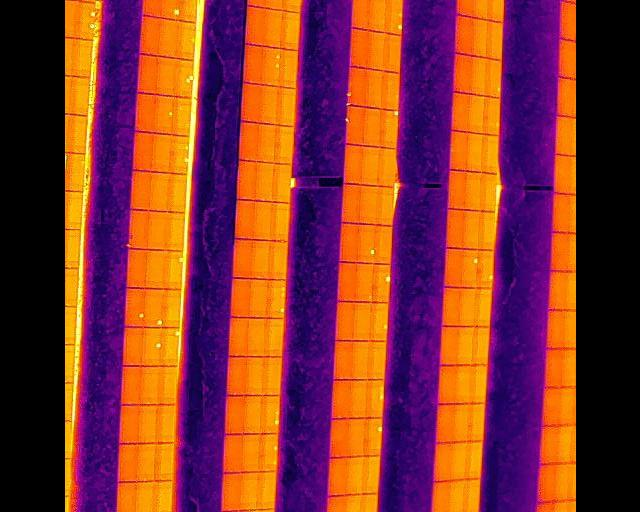Cell: (124, 288, 145, 327), (372, 263, 391, 302), (345, 106, 363, 145), (357, 224, 375, 263), (379, 110, 397, 149), (143, 328, 161, 367), (370, 303, 388, 341), (145, 289, 162, 328), (155, 95, 172, 134), (161, 327, 178, 366), (484, 59, 500, 98), (461, 250, 477, 288), (165, 251, 181, 289), (366, 418, 382, 455), (484, 97, 499, 136), (477, 250, 492, 288), (162, 0, 180, 21)
Cell-Multi: (74, 2, 94, 39), (169, 135, 187, 174), (260, 395, 278, 434), (261, 47, 279, 86), (347, 68, 365, 106), (267, 280, 285, 318), (259, 433, 276, 471), (385, 0, 403, 35), (366, 380, 382, 419), (175, 60, 191, 98)
No-Anomaly: (231, 239, 252, 279), (129, 171, 150, 210), (127, 209, 147, 249), (135, 93, 155, 133), (549, 271, 569, 310), (550, 233, 570, 272), (123, 327, 143, 366), (223, 395, 243, 434), (234, 200, 254, 239), (334, 302, 354, 341), (348, 28, 367, 69), (116, 444, 136, 482), (145, 250, 165, 288), (147, 211, 166, 251), (225, 357, 245, 395), (230, 279, 250, 317), (240, 83, 259, 123), (341, 184, 360, 223), (122, 366, 141, 405), (137, 404, 156, 443), (228, 317, 247, 356), (236, 161, 255, 200), (244, 7, 263, 46), (264, 318, 283, 357), (333, 341, 352, 380), (133, 133, 153, 170), (242, 47, 262, 84), (558, 77, 576, 118), (442, 249, 461, 287), (544, 349, 563, 387), (127, 250, 146, 288), (140, 367, 159, 405), (158, 20, 177, 58), (68, 77, 87, 115), (71, 40, 90, 78), (238, 123, 257, 161), (256, 471, 275, 509), (361, 146, 379, 186), (558, 40, 576, 80), (454, 13, 471, 55), (139, 56, 158, 93), (65, 153, 84, 190), (65, 116, 84, 153), (156, 404, 174, 443), (339, 262, 357, 301), (340, 223, 358, 262), (343, 145, 361, 184), (344, 456, 362, 495), (359, 185, 377, 224), (362, 107, 380, 146), (367, 341, 385, 380), (375, 187, 393, 226), (438, 326, 456, 365), (440, 287, 458, 326), (446, 171, 464, 210), (453, 55, 471, 94), (538, 464, 556, 503), (540, 425, 558, 464), (119, 404, 137, 443), (141, 17, 159, 56), (150, 172, 168, 211), (238, 471, 256, 510), (280, 11, 298, 50), (330, 418, 348, 457), (484, 21, 501, 62), (554, 154, 571, 195), (555, 116, 572, 157), (157, 56, 174, 97), (349, 418, 367, 456), (364, 70, 382, 108), (367, 32, 385, 70), (374, 226, 392, 264), (437, 365, 455, 403), (548, 311, 566, 349), (137, 444, 155, 482), (151, 134, 169, 172), (168, 174, 186, 212), (223, 434, 241, 472), (241, 434, 259, 472), (243, 396, 261, 434), (257, 124, 275, 162), (274, 126, 292, 164), (331, 381, 349, 419), (254, 200, 271, 240), (270, 240, 287, 280), (327, 456, 344, 496), (155, 444, 173, 481), (350, 379, 367, 418), (362, 455, 379, 494), (445, 210, 462, 249), (458, 287, 475, 326), (542, 386, 559, 425), (552, 194, 569, 233), (558, 425, 575, 464), (246, 357, 263, 396), (247, 318, 264, 357), (249, 279, 266, 318), (255, 162, 272, 201), (263, 357, 280, 396), (263, 8, 280, 47), (276, 87, 293, 126), (465, 440, 482, 478), (556, 463, 573, 501), (159, 366, 176, 404), (163, 289, 180, 327), (166, 212, 183, 250), (221, 473, 238, 511), (259, 86, 276, 124), (271, 203, 288, 241), (279, 49, 296, 87), (561, 0, 576, 43), (462, 210, 478, 250), (464, 171, 480, 211), (470, 18, 486, 58), (172, 96, 188, 136), (382, 72, 399, 109), (64, 192, 81, 229), (378, 148, 394, 187), (434, 442, 450, 481), (437, 403, 453, 442), (450, 441, 466, 480), (450, 132, 466, 171), (456, 326, 472, 365), (467, 95, 483, 134), (473, 326, 489, 365), (475, 287, 491, 326), (560, 387, 576, 426), (253, 240, 269, 279), (273, 163, 289, 202), (116, 481, 136, 512), (384, 35, 400, 73), (451, 93, 467, 131), (469, 365, 485, 403), (478, 212, 494, 250), (468, 403, 484, 440), (352, 341, 367, 380), (354, 302, 369, 341), (466, 132, 481, 171), (482, 135, 497, 174), (177, 21, 192, 60), (368, 0, 386, 32), (153, 480, 171, 512), (453, 403, 468, 441), (454, 365, 469, 403), (480, 173, 494, 213), (357, 263, 371, 302), (470, 56, 484, 95), (463, 478, 479, 512), (431, 481, 448, 512), (136, 481, 153, 512), (350, 0, 368, 28), (448, 480, 463, 512), (487, 0, 503, 22), (180, 0, 196, 22), (358, 494, 377, 512), (143, 0, 162, 18), (472, 0, 488, 19), (341, 495, 358, 512), (455, 0, 472, 16), (325, 496, 341, 512), (282, 0, 301, 12), (553, 502, 571, 512), (536, 502, 553, 512), (266, 0, 283, 10)
